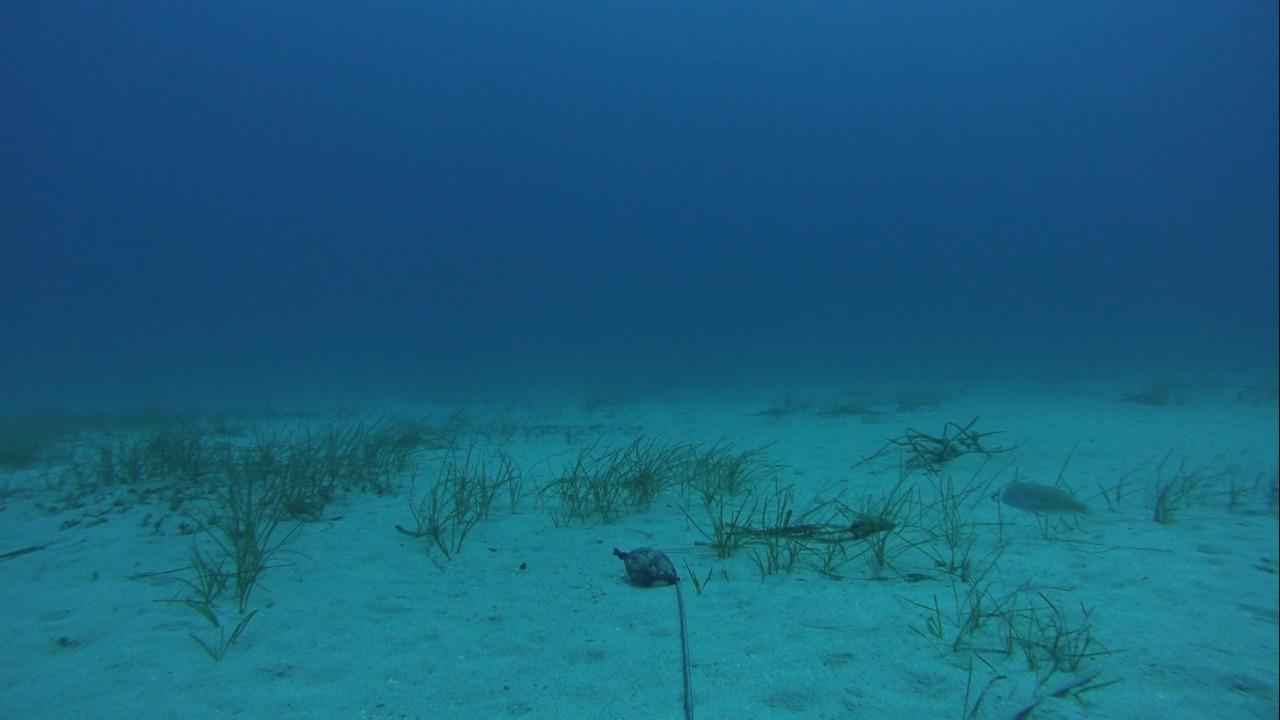raor: (997, 477, 1091, 518)
